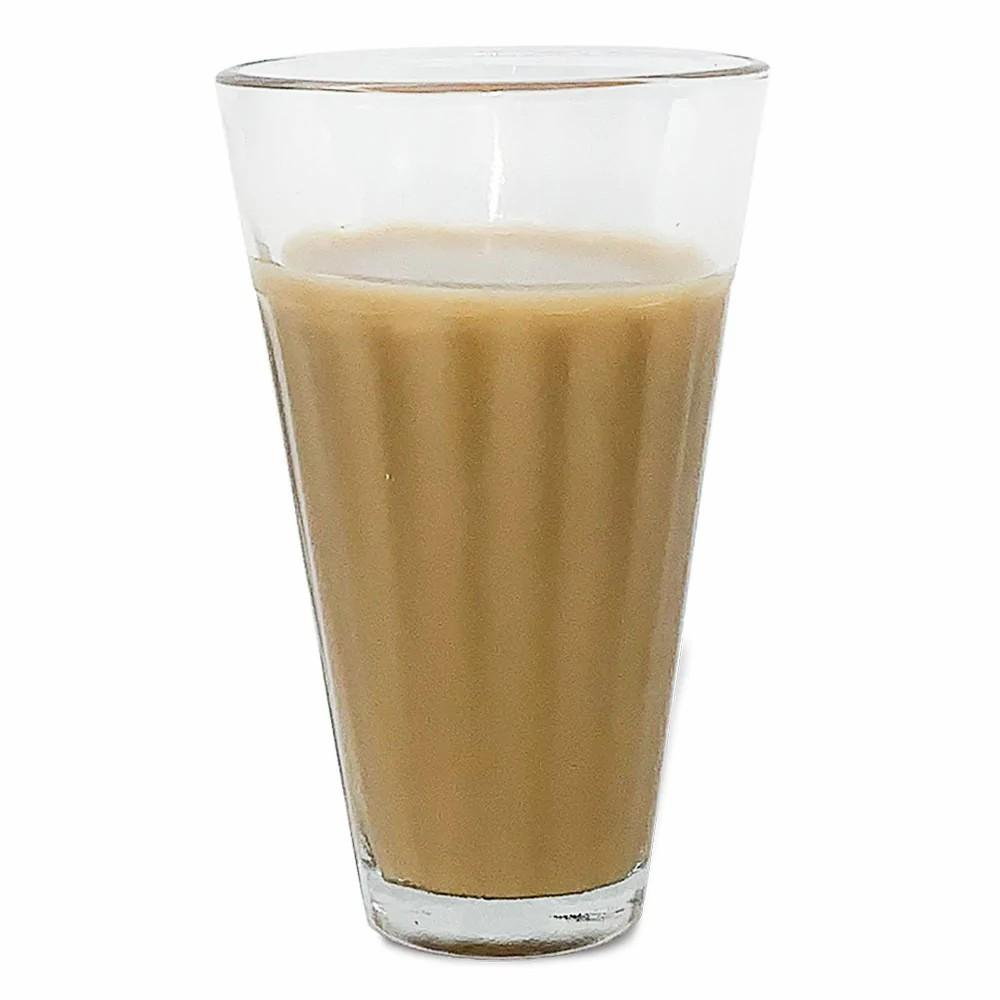Chai: (258, 228, 729, 897)
